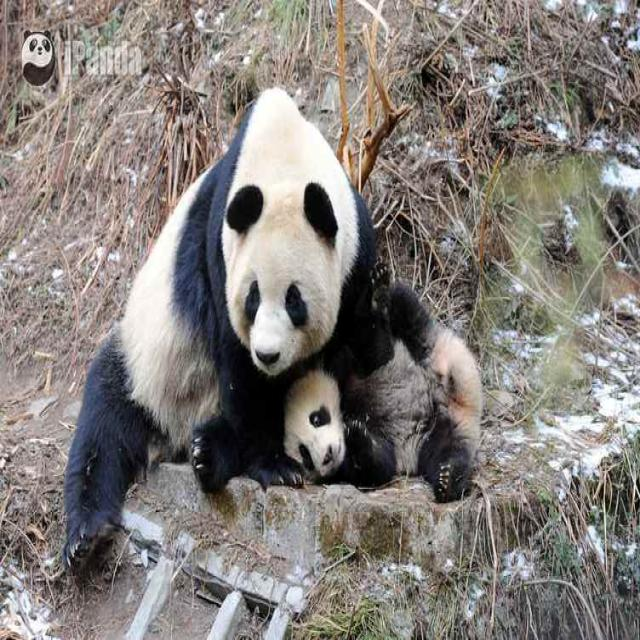panda: (52, 93, 546, 582)
